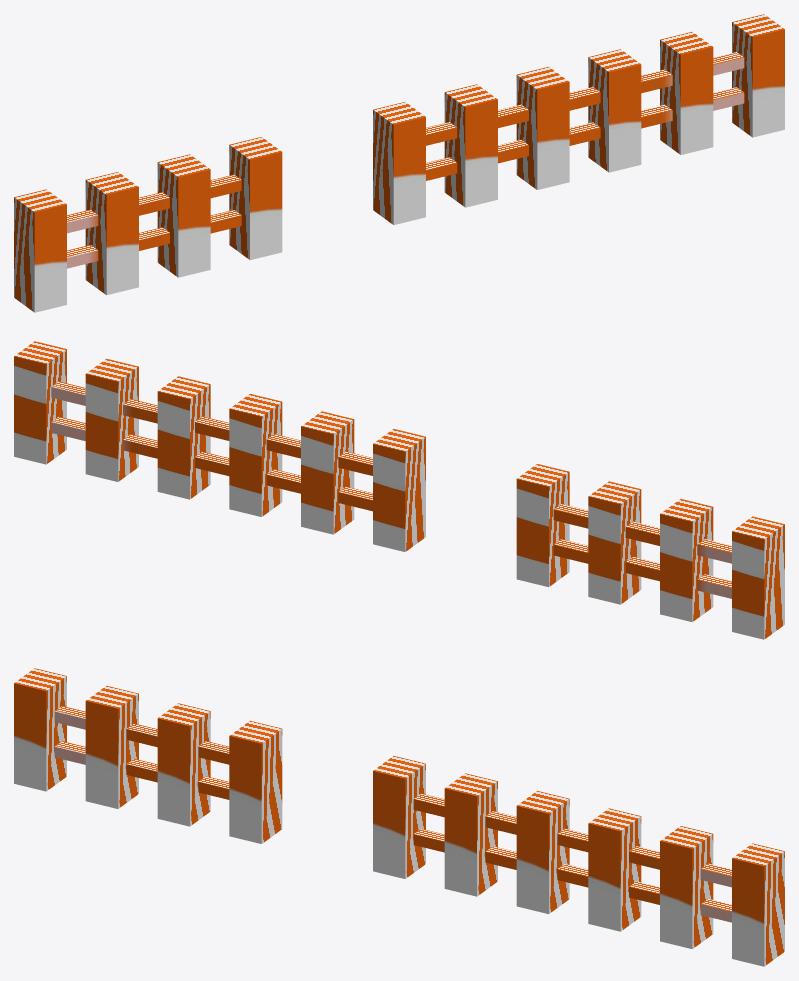
The model's file is Fence5.fbx.
The picture shows the model from 3 angles, top to bottom: view 1: azimuth 30°, elevation 25°; view 2: azimuth 150°, elevation 25°; view 3: azimuth 330°, elevation 25°; orthographic projection.
Parts seen in each view (by area): view 1: fence_short_mesh; view 2: fence_short_mesh; view 3: fence_short_mesh.
Part boxes in pixels (x1,y1,x2,y2): fence_short_mesh: (14,14,784,312); fence_short_mesh: (14,341,784,639); fence_short_mesh: (14,668,784,966).
Bounding box in the file's own units: 836 × 107 × 39.99.
